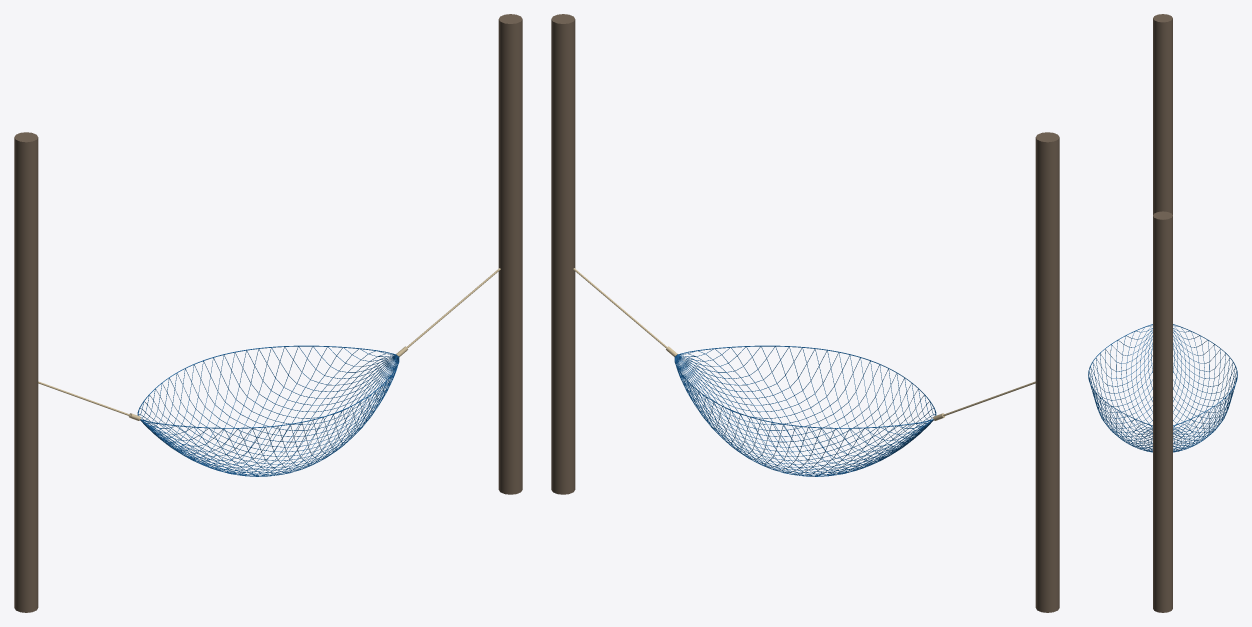
The model's file is vong_luoi_cafe.glb.
3 views of the same model, side by side, from view 1: azimuth 30°, elevation 25°; view 2: azimuth 150°, elevation 25°; view 3: azimuth 270°, elevation 25° (orthographic). The views are drawn at different scales.
Parts seen in each view (by area): view 1: vong_luoi_cafe, bed_vong_luoi_cafe; view 2: vong_luoi_cafe, bed_vong_luoi_cafe; view 3: vong_luoi_cafe, bed_vong_luoi_cafe.
Boxes of the visible parts, x1,y1,x2,y2 form: vong_luoi_cafe: (14,14,522,612); bed_vong_luoi_cafe: (38,268,500,476); vong_luoi_cafe: (551,14,1059,612); bed_vong_luoi_cafe: (573,268,1035,476); vong_luoi_cafe: (1153,14,1172,612); bed_vong_luoi_cafe: (1088,324,1237,452).
Bounding box in the file's own units: 2.92 × 2.6 × 0.8973.
